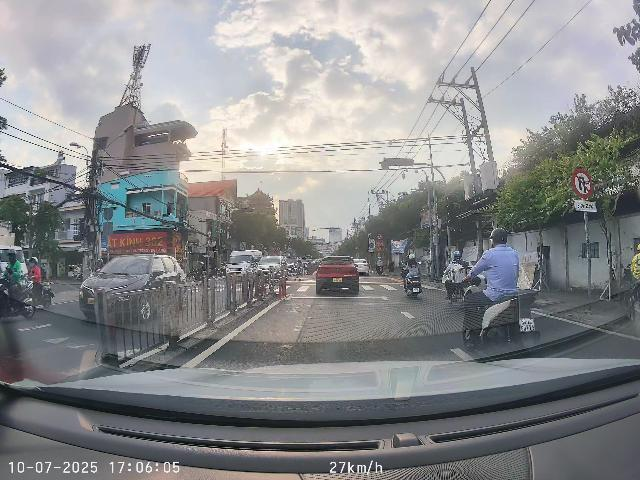124b-cam-oto-quay-dau-xe: (572, 169, 593, 198)
